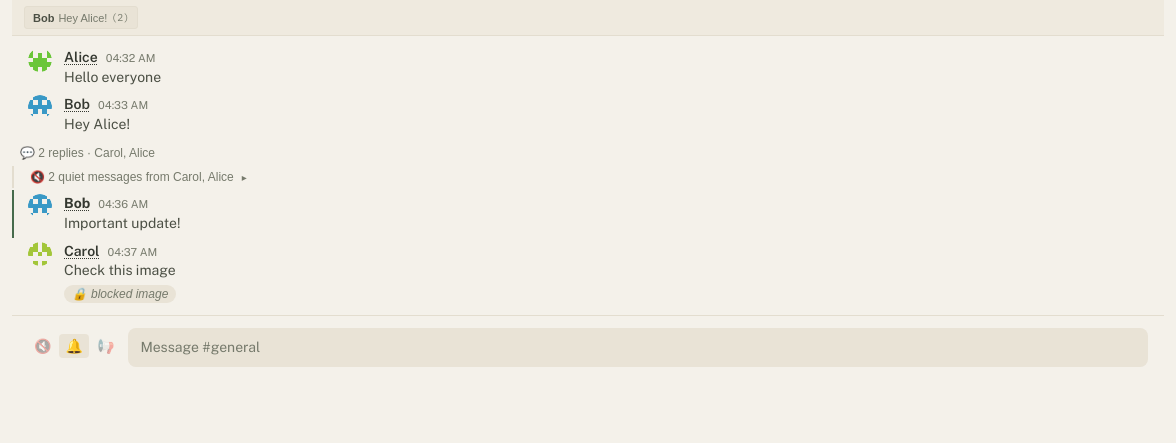
Test: TextFeed Integration › expands quiet group to show individual messages
Click the button "🔇 2 quiet messages from Carol, Alice ▸" at (132,177), box [14,166,1164,188]
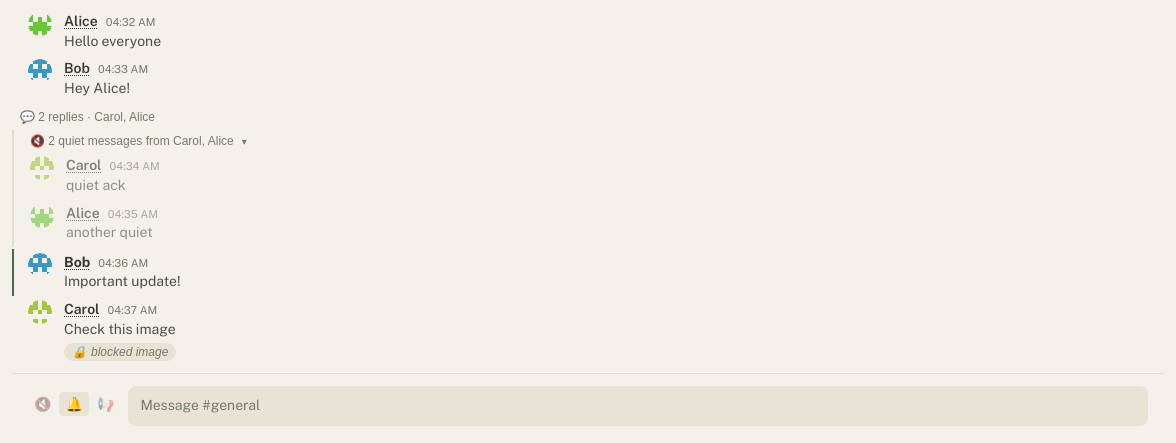
Result: the text "quiet ack" is shown at [66,177,126,193]
Result: the text "another quiet" is shown at [66,224,153,240]
